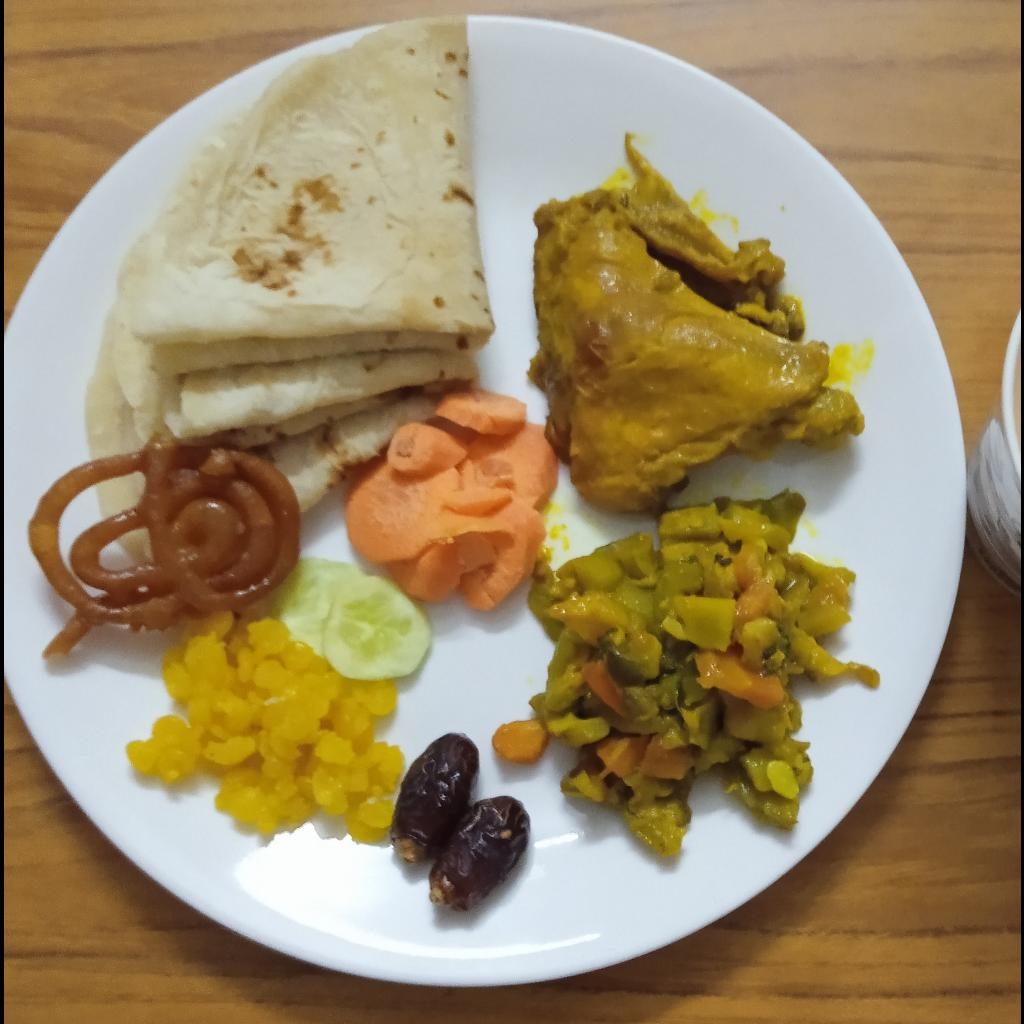burinda: (127, 611, 404, 841)
carrot: (342, 389, 558, 612)
chicken: (527, 135, 866, 515)
cucumber: (268, 557, 430, 681)
dates: (391, 732, 530, 912)
jilapi: (28, 436, 299, 659)
ruti: (84, 17, 493, 515)
vegetable: (493, 490, 878, 859)
